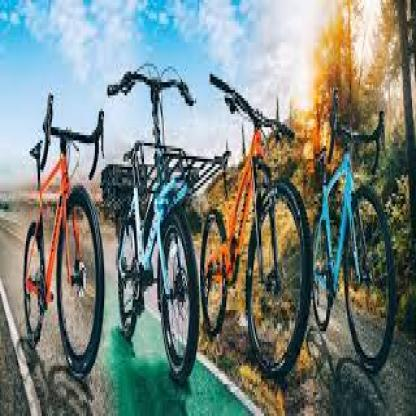Bike: (106, 73, 214, 383), (202, 73, 312, 365), (18, 95, 107, 378), (314, 103, 395, 367)
